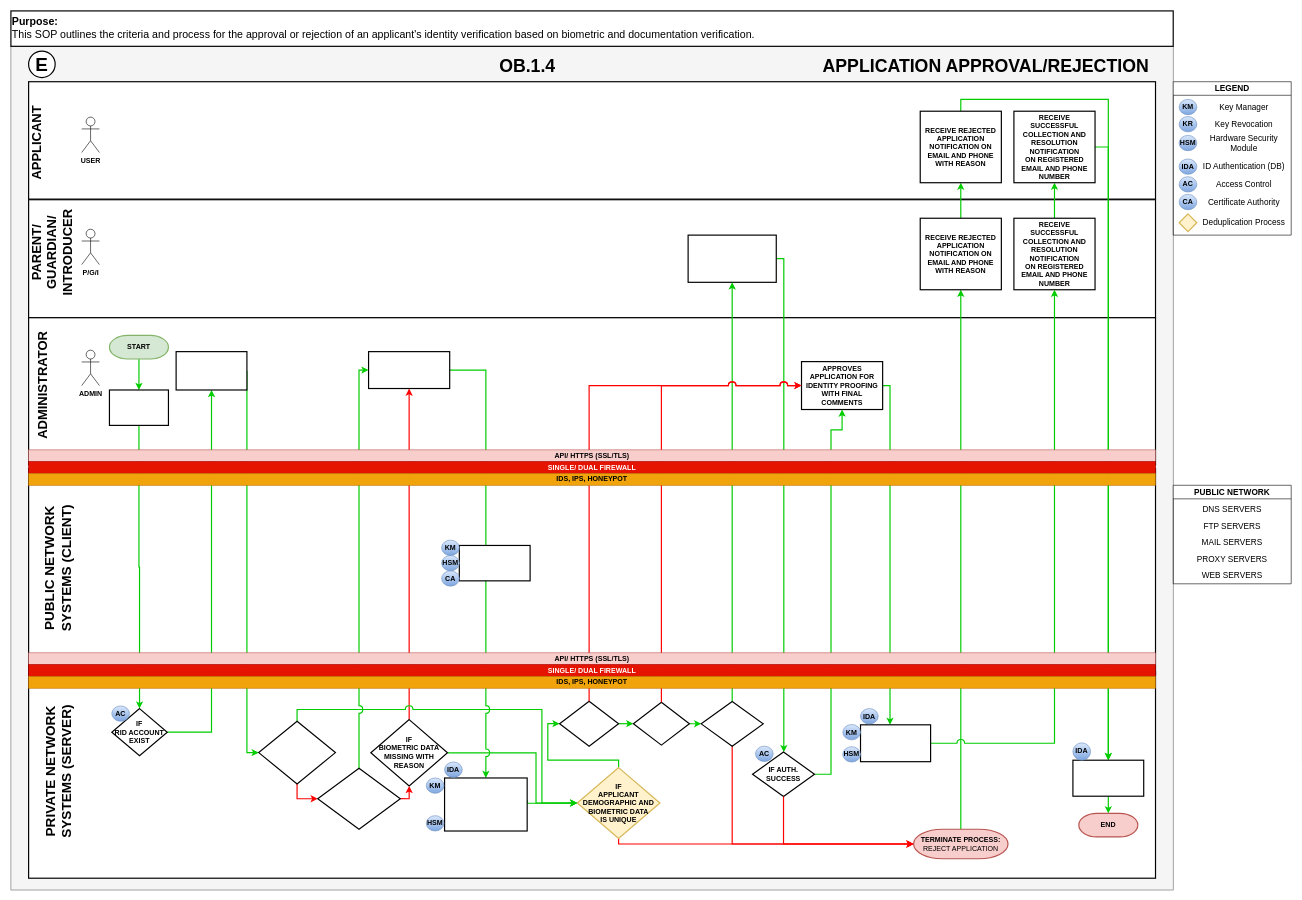
Image size: 1302x900. Some labels were removed from this diagram. Here are the shapes that lost their labels. From the top down, the centre of each, then its label:
point 732,258: AUTHENTICATE USING (ONE): FINGERPRINT: AU.3.B IRIS: AU.3.C FACIAL: AU.3.D
point 211,370: CHECK COMPLETENESS OF APPLICANT DATA
point 409,370: FILLS APPROPRIATE REASON FOR MISSING BIOMETRIC DATA
point 139,407: RECEIVE RID OF APPLICANT
point 494,563: MASK & ENCRYPT BIOMETRIC MISSING REASON
point 589,723: IF APPLYING WITH P/G/I
point 661,723: IF P/G/I UIN/RID NEEDED
point 731,723: IF P/G/I UIN/RID PROVIDED
point 895,743: STORE APPROVAL STATUS AND NOTIFY APPLICANT
point 297,752: IF ALL BIOMETRIC DATA OF APPLICANT CAPTURED
point 1108,777: LOGS THE PROCESS AND STATUS
point 359,798: IF ATLEAST ONE BIOMETRIC DATA OF APPLICANT CAPTURED
point 485,804: STORES SPECIAL CASE REASON FOR MISSING BIOMETRIC DATA IN RID ACCOUNT
